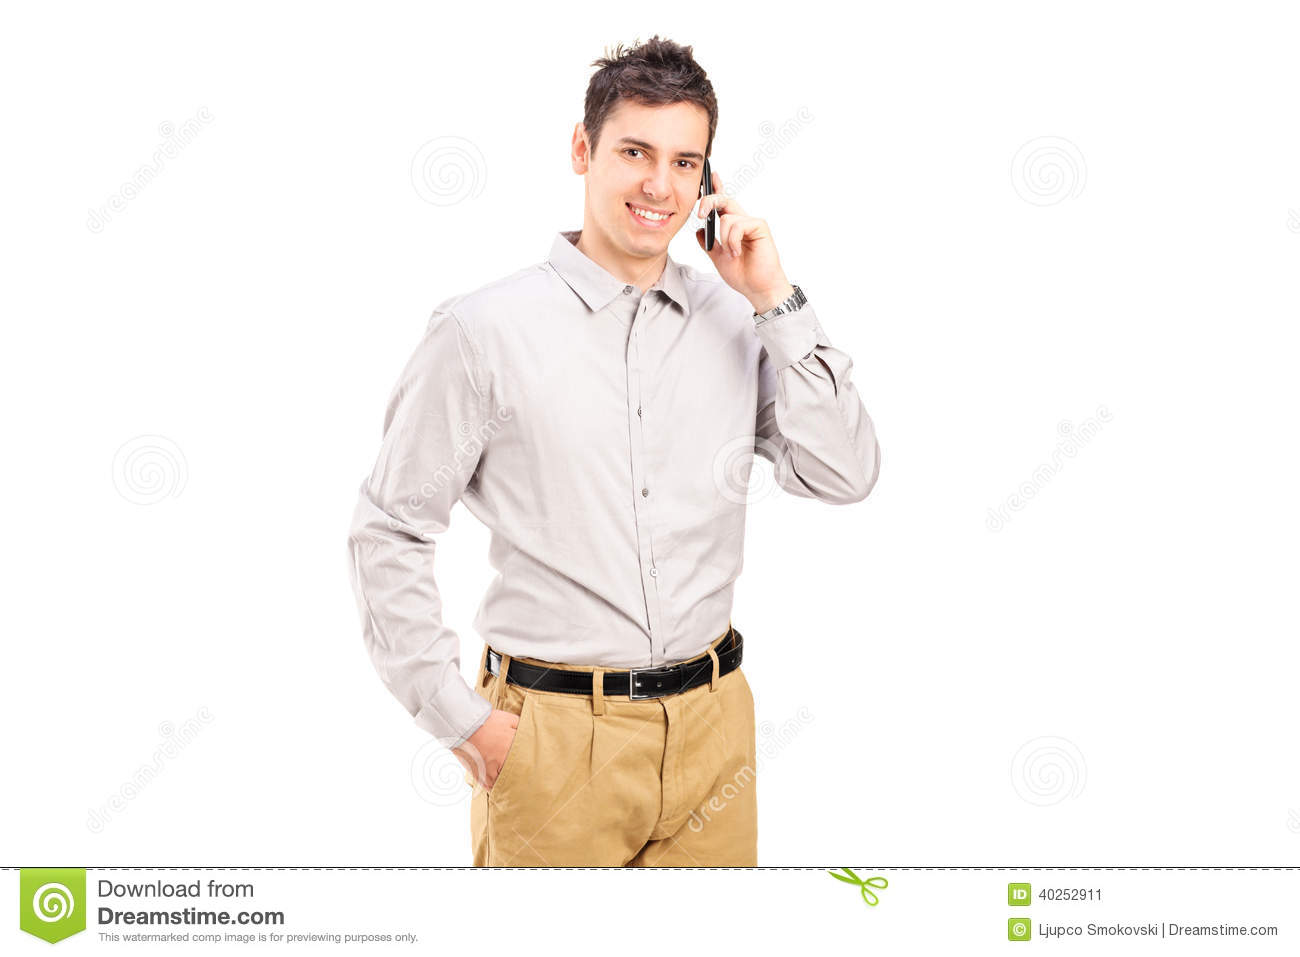phone: (693, 157, 716, 252)
talk: (603, 131, 782, 307)
